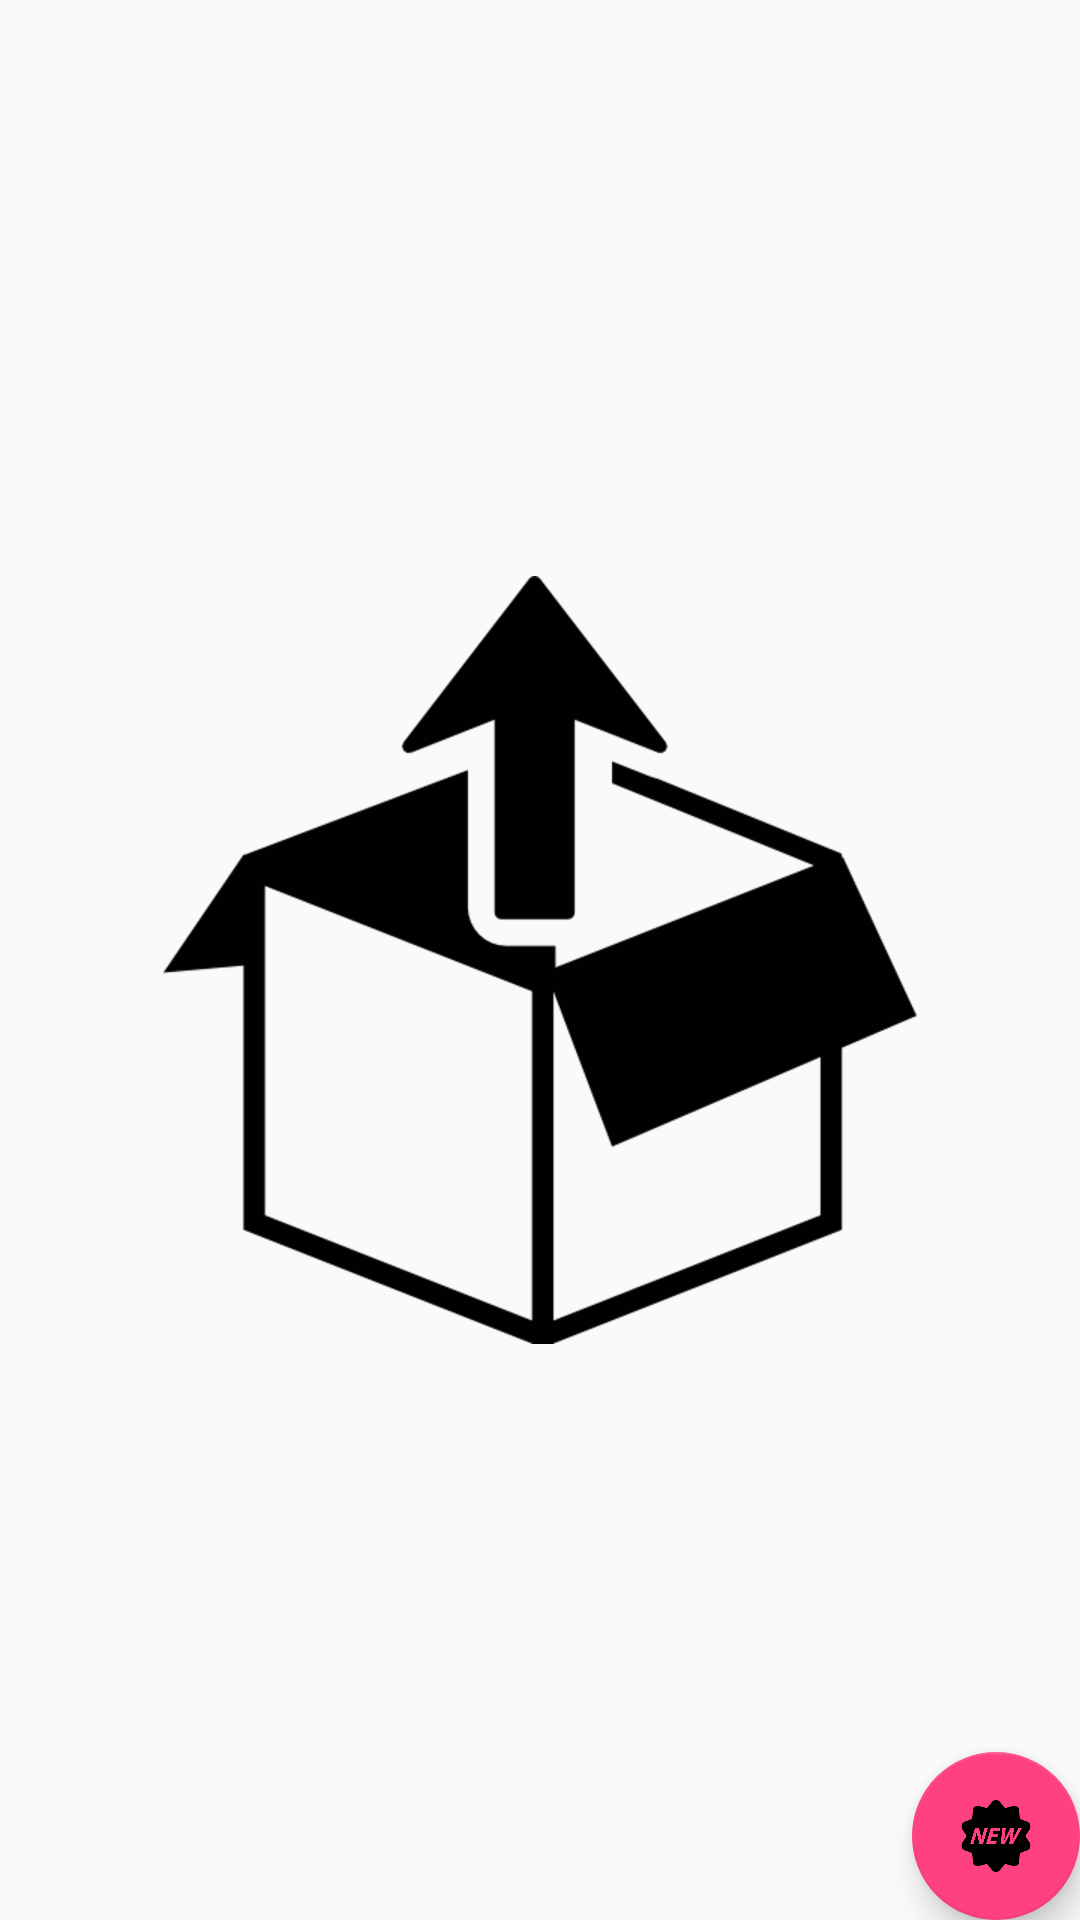

Where to tap for icons on this 1080 x 1920 app screen, as (x,y):
item shopping label: (996,1836)
